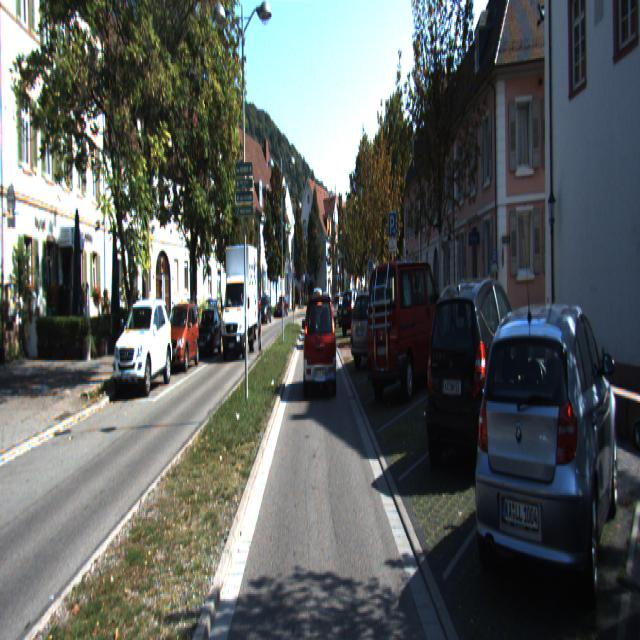Car: (469, 296, 620, 638), (423, 272, 531, 486), (365, 255, 449, 404), (115, 298, 174, 393), (351, 291, 406, 369), (220, 249, 258, 360), (304, 293, 338, 397), (161, 302, 200, 374), (125, 305, 157, 364), (339, 288, 373, 334), (194, 309, 222, 357), (338, 291, 361, 327), (234, 297, 254, 333)
